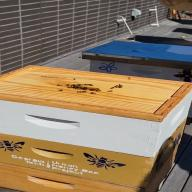Bee: (108, 82, 125, 92)
